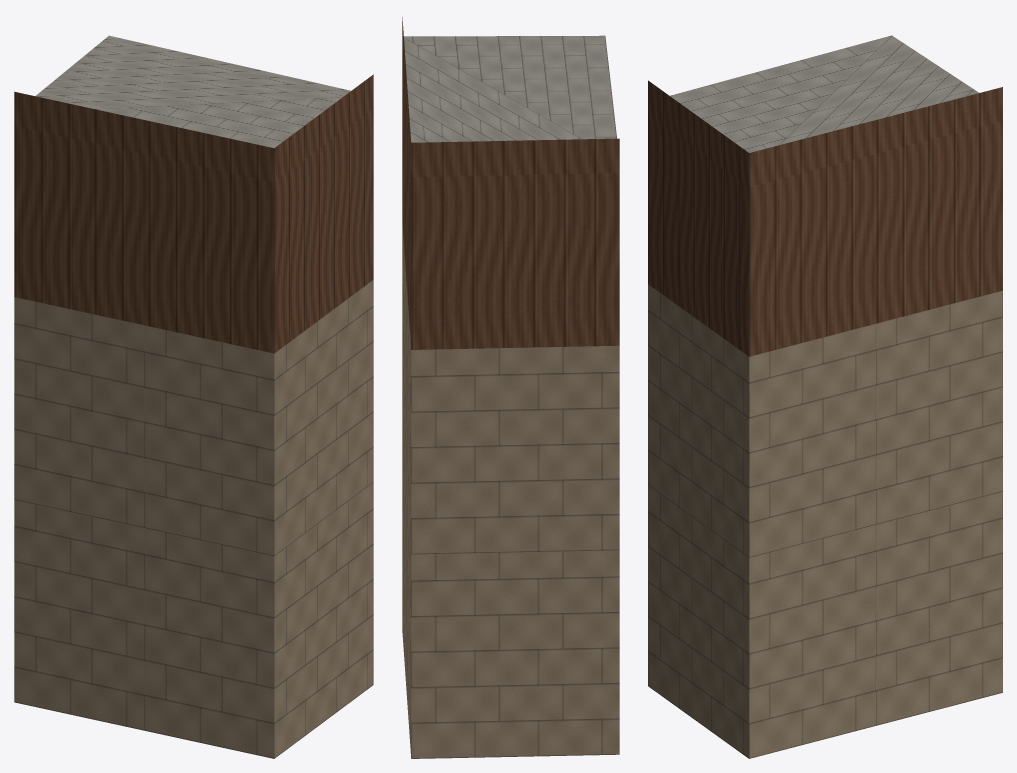
File: bld_c9_17_435.gltf
3 renders of one model, left to right at view 1: azimuth 30°, elevation 25°; view 2: azimuth 150°, elevation 25°; view 3: azimuth 270°, elevation 25°, orthographic.
Visible parts, largest first — view 1: bld_c9_17_435; view 2: bld_c9_17_435; view 3: bld_c9_17_435.
Boxes of the visible parts, x1=… form: bld_c9_17_435: x1=14, y1=35, x2=373, y2=758; bld_c9_17_435: x1=402, y1=17, x2=619, y2=758; bld_c9_17_435: x1=648, y1=35, x2=1002, y2=758.
Size of the model in its own units: 3.34 by 6.78 by 3.6.
Materials: 4 (4 with a texture image).
